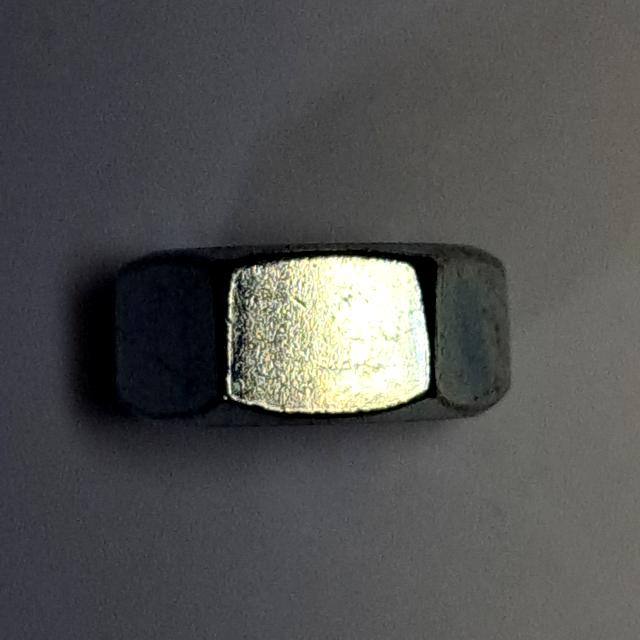Side_Excellent: (98, 230, 533, 452)
